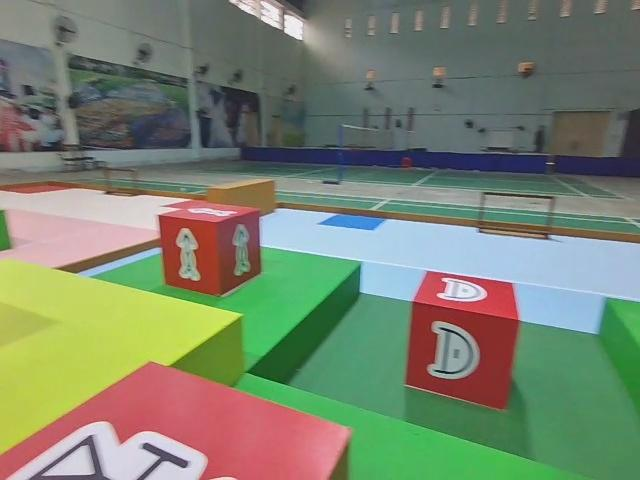R2 Real: (0, 356, 357, 480), (401, 265, 523, 417), (153, 198, 264, 295)
